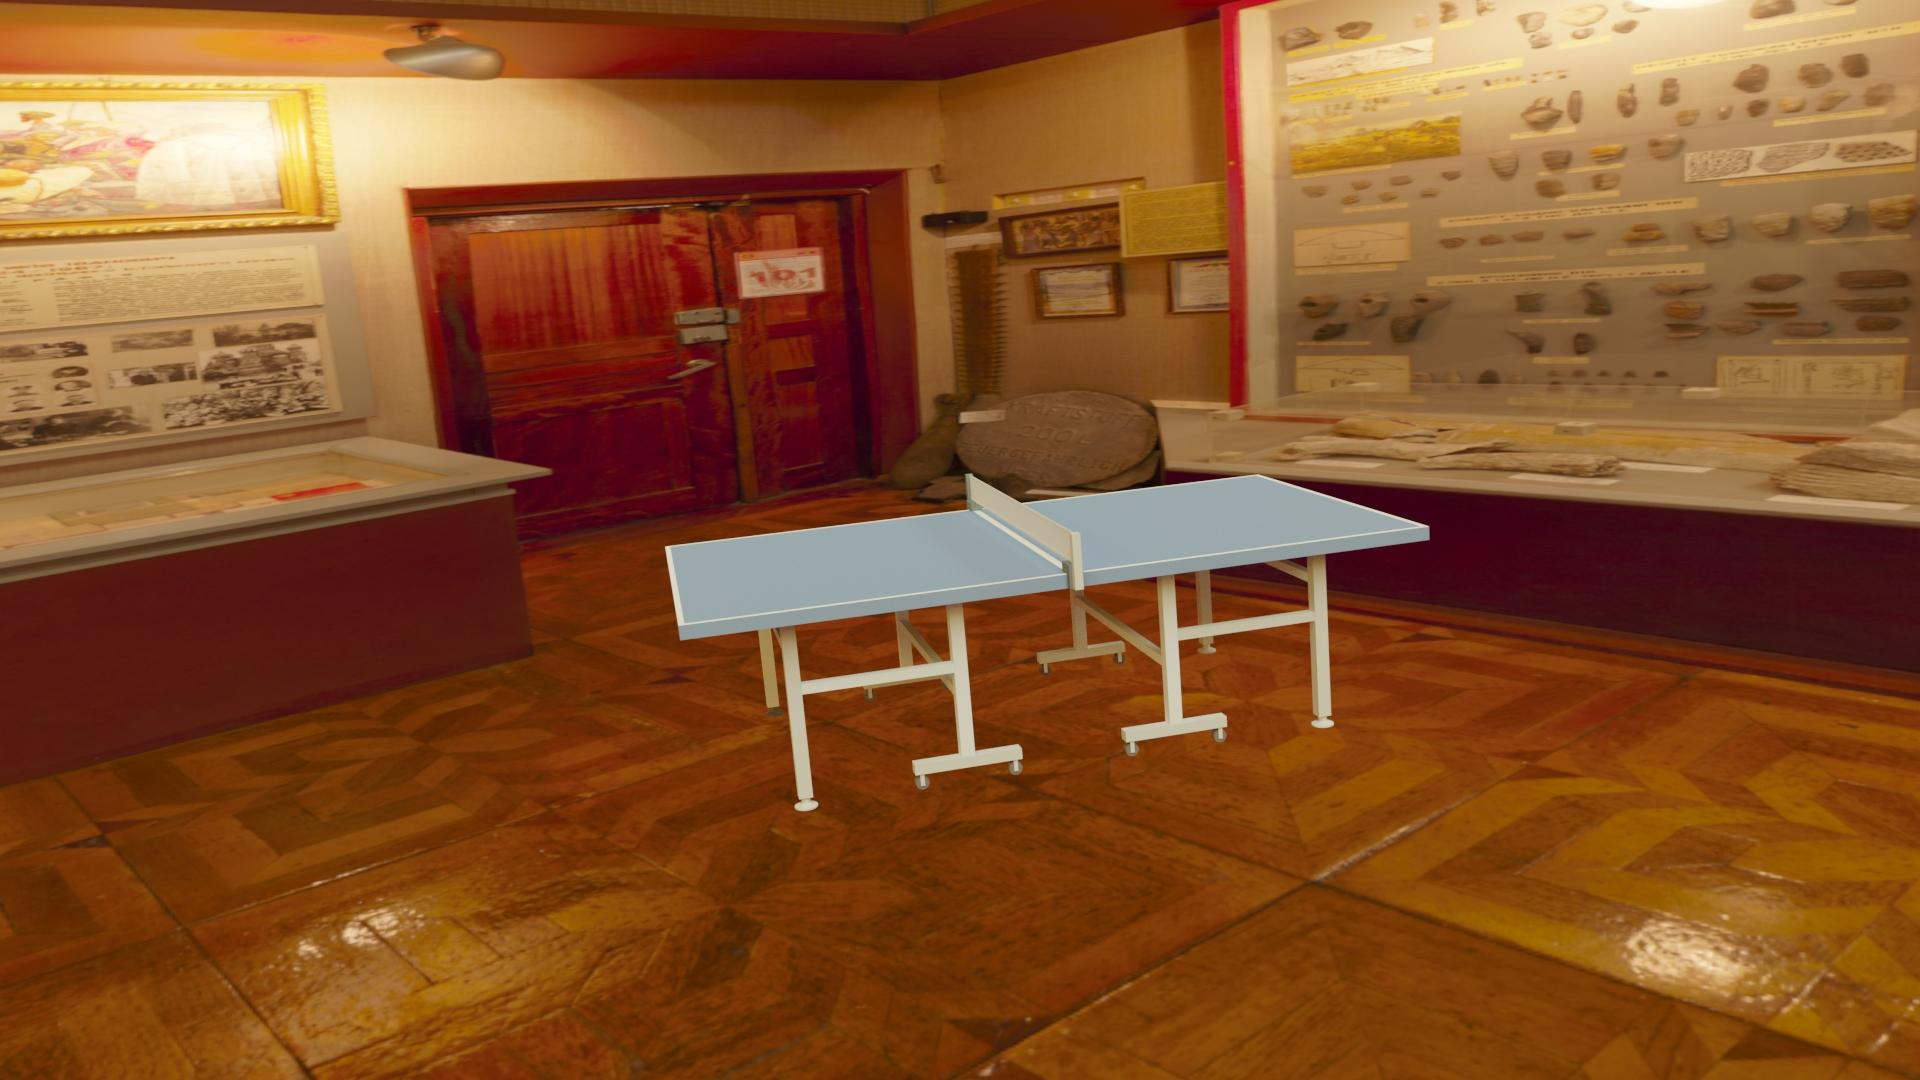table: (670, 476, 1422, 624)
